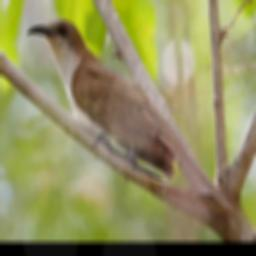Cuckoo: (23, 18, 175, 181)
